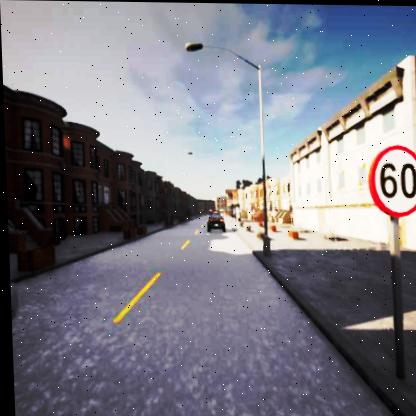vehicle: (204, 214, 222, 231)
